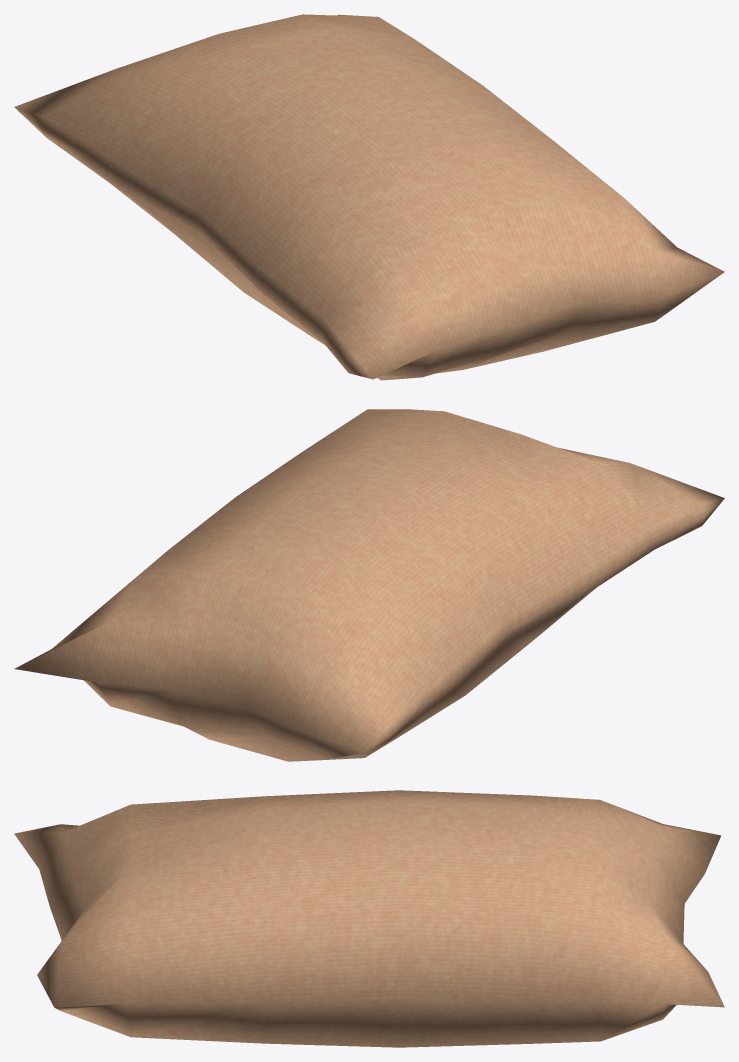
The model's file is KarungBeras.fbx.
3 renders of one model, top to bottom at view 1: azimuth 30°, elevation 25°; view 2: azimuth 150°, elevation 25°; view 3: azimuth 270°, elevation 25°, orthographic. The views are drawn at different scales.
Visible parts, largest first — view 1: KarungBeras1_LOD0; view 2: KarungBeras1_LOD0; view 3: KarungBeras1_LOD0.
Boxes of the visible parts, bbox=[...] form: KarungBeras1_LOD0: bbox=[14, 14, 724, 380]; KarungBeras1_LOD0: bbox=[14, 409, 724, 761]; KarungBeras1_LOD0: bbox=[14, 790, 724, 1047].
Size of what is drawn, in the model's own units: 69.51 by 36.9 by 118.
1 material, 1 textured.
